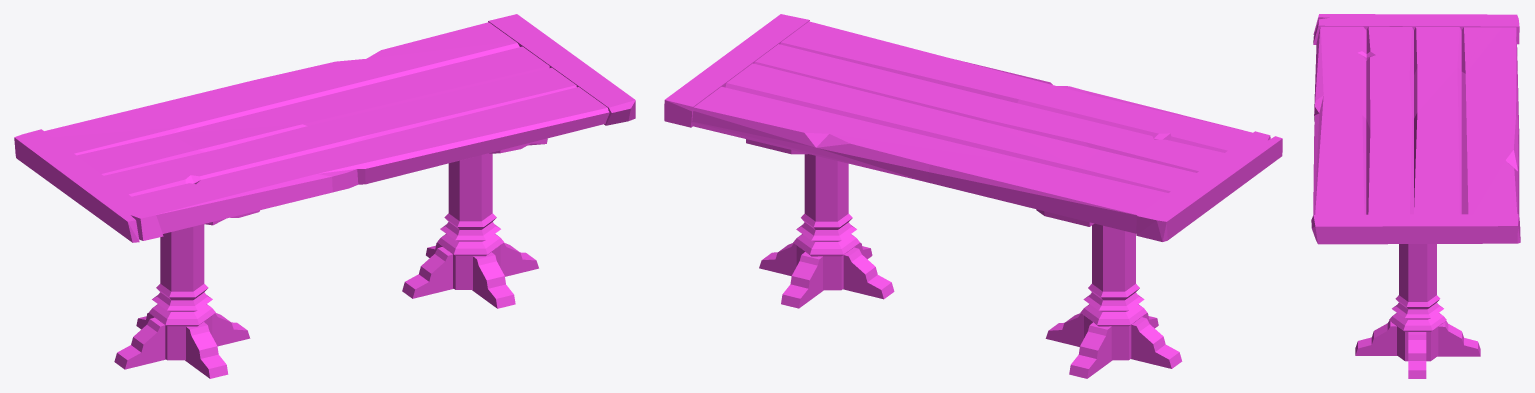
The model's file is SM_Table_Fancy_A_Fantasy.fbx.
3 views of the same model, side by side, from view 1: azimuth 30°, elevation 25°; view 2: azimuth 150°, elevation 25°; view 3: azimuth 270°, elevation 25° (orthographic). The views are drawn at different scales.
Parts seen in each view (by area): view 1: SM_Table_Fancy_A_Fantasy; view 2: SM_Table_Fancy_A_Fantasy; view 3: SM_Table_Fancy_A_Fantasy.
Boxes of the visible parts, x1=… form: SM_Table_Fancy_A_Fantasy: x1=14, y1=14, x2=635, y2=378; SM_Table_Fancy_A_Fantasy: x1=664, y1=14, x2=1282, y2=378; SM_Table_Fancy_A_Fantasy: x1=1311, y1=14, x2=1520, y2=378.
Bounding box in the file's own units: 2.15 × 0.8 × 0.8902.
